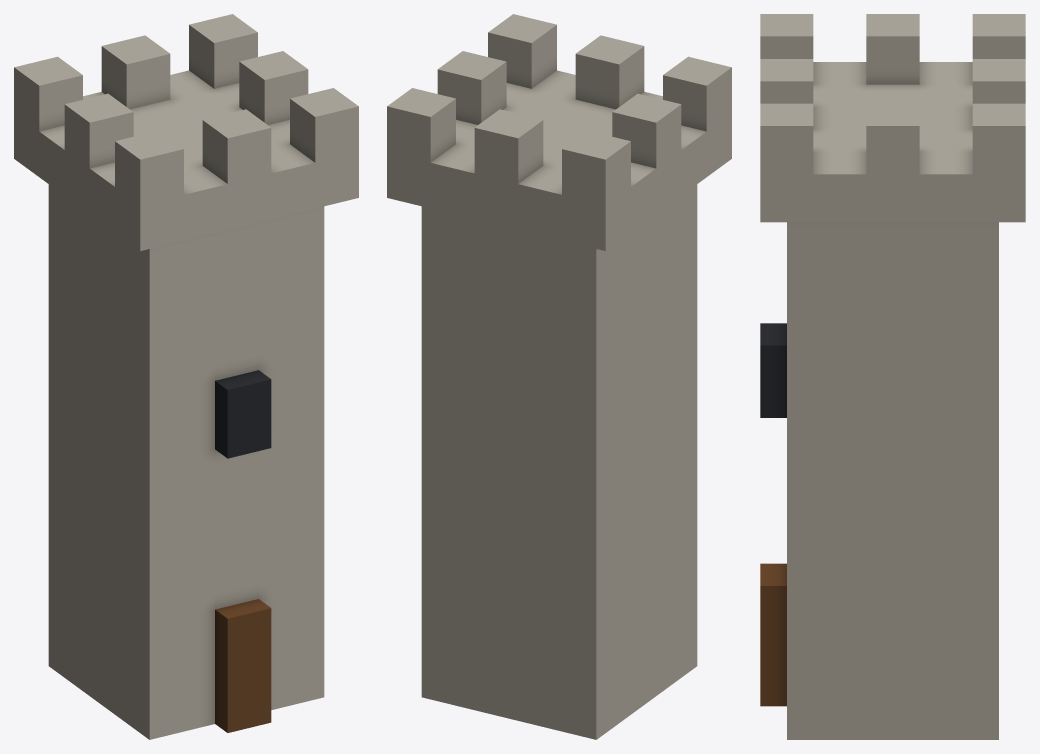
File: c_keep.glb
3 views of the same model, side by side, from view 1: azimuth 30°, elevation 25°; view 2: azimuth 150°, elevation 25°; view 3: azimuth 270°, elevation 25° (orthographic). The views are drawn at different scales.
Visible parts, largest first — view 1: c_keep_body; view 2: c_keep_body; view 3: c_keep_body.
Part boxes in pixels (bbox=[...]): c_keep_body: bbox=[14, 14, 358, 739]; c_keep_body: bbox=[387, 14, 731, 739]; c_keep_body: bbox=[760, 14, 1025, 739].
Bounding box in the file's own units: 0.625 × 1.62 × 0.625.
Materials: 1 (1 with a texture image).
